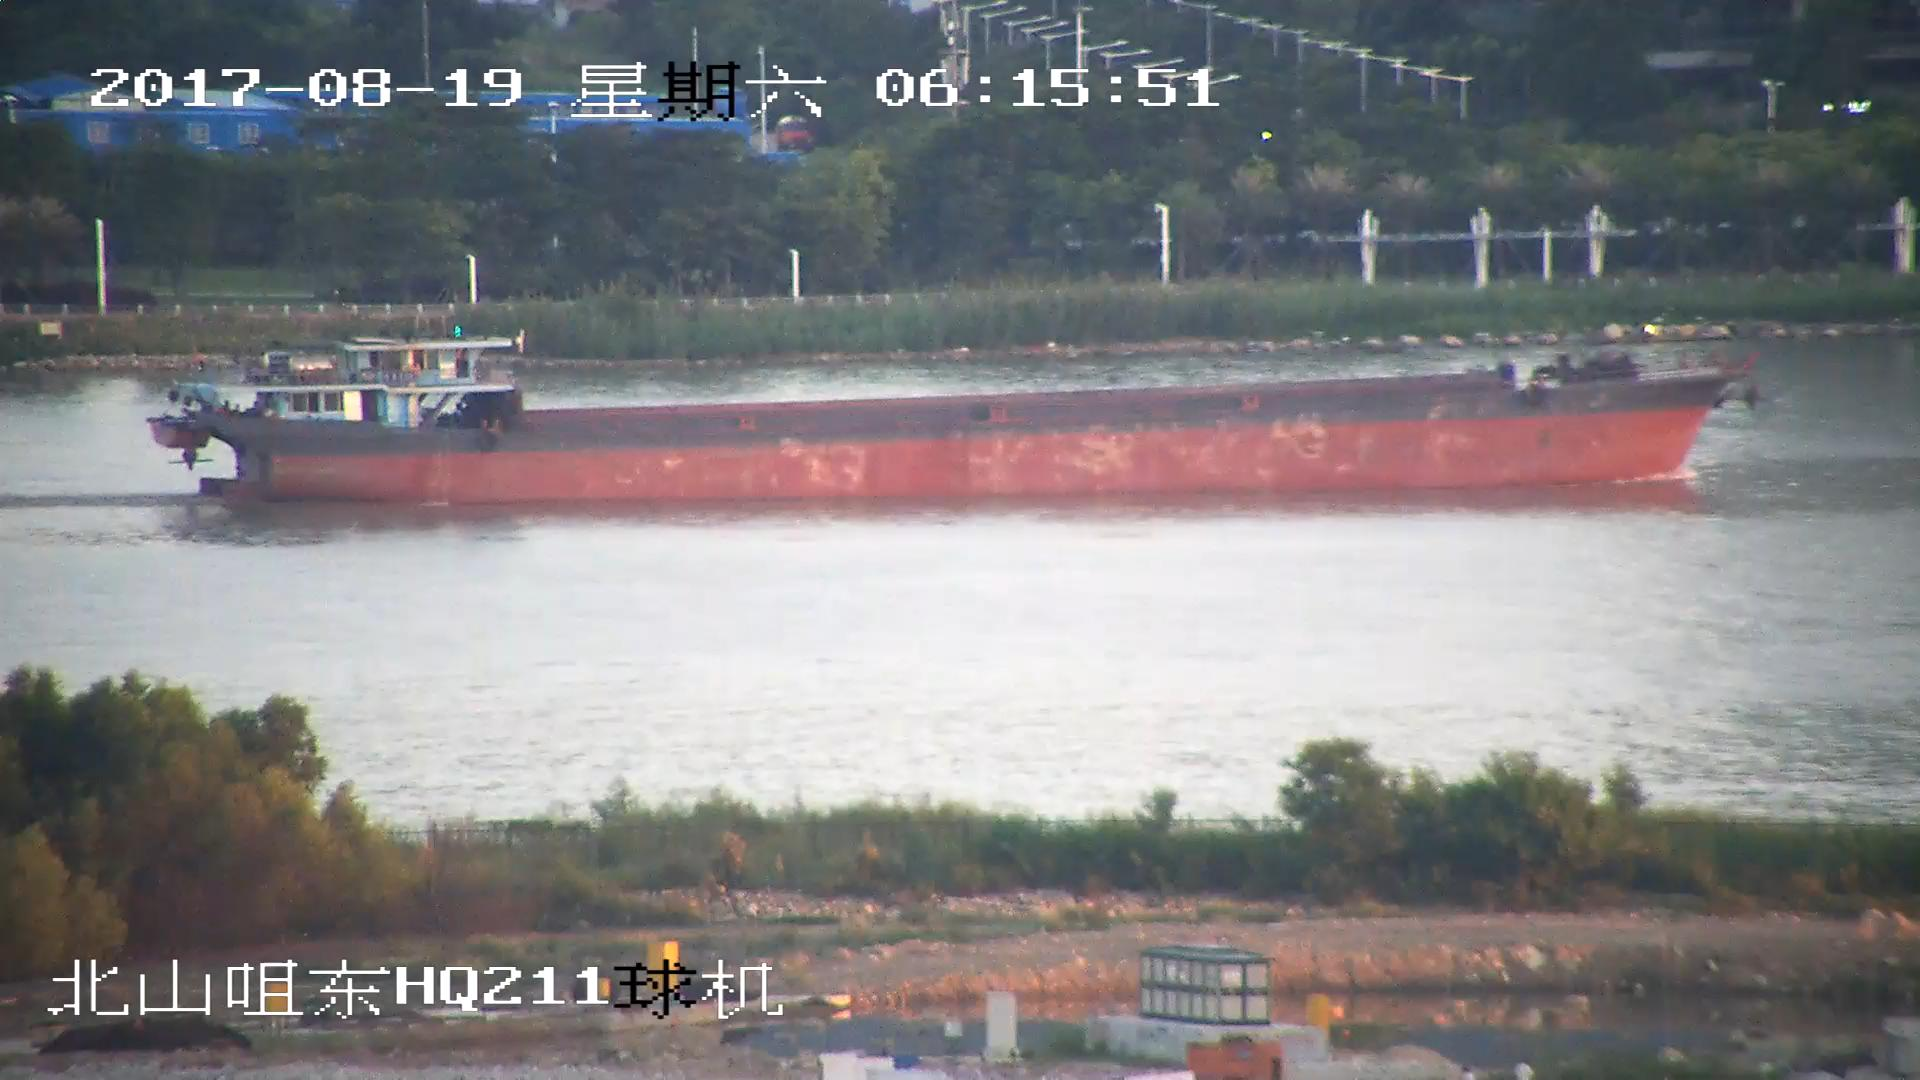bulk cargo carrier: (144, 324, 1766, 504)
